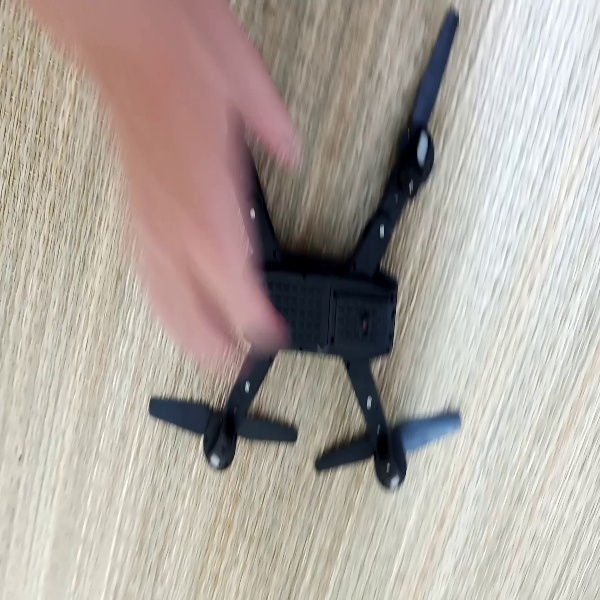drone: (140, 6, 466, 494)
